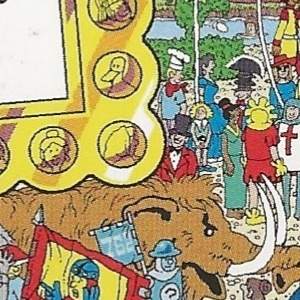Charlie: (104, 46, 196, 255)
